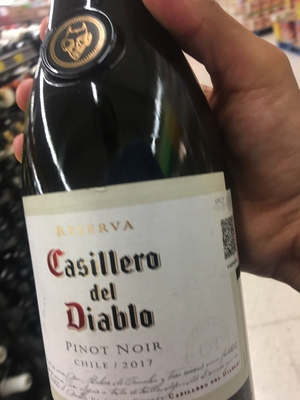casillero del diablo pinot noir: (20, 20, 246, 400)
